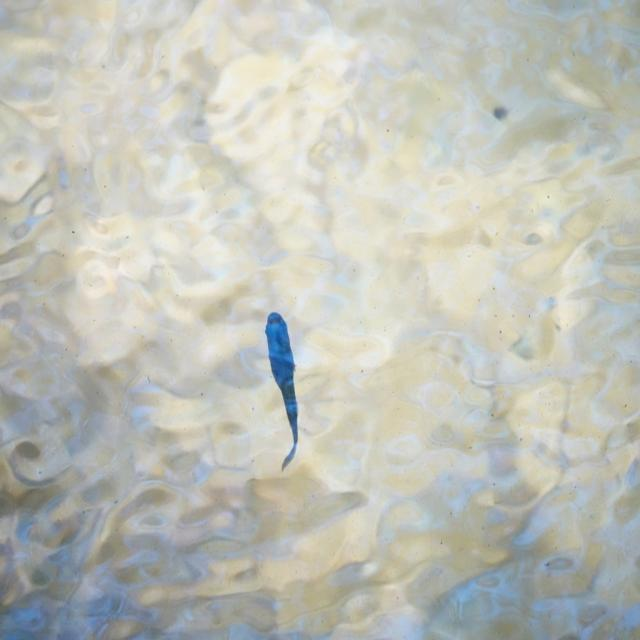Sivrisinek Baligi: (259, 294, 307, 473)
